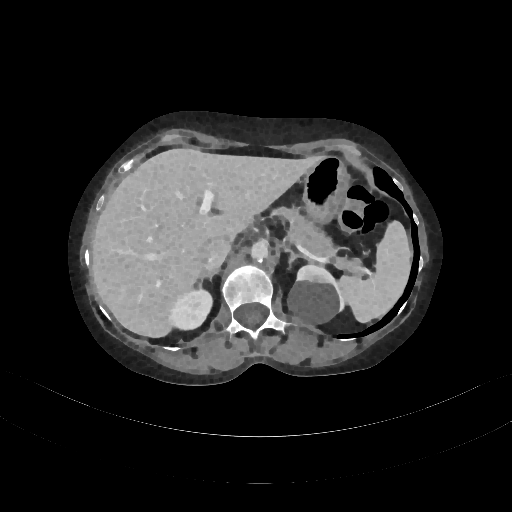Lesion: (284, 274, 343, 329)
